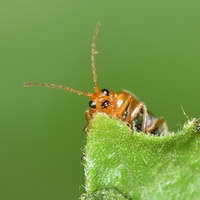insect: (24, 22, 167, 135)
